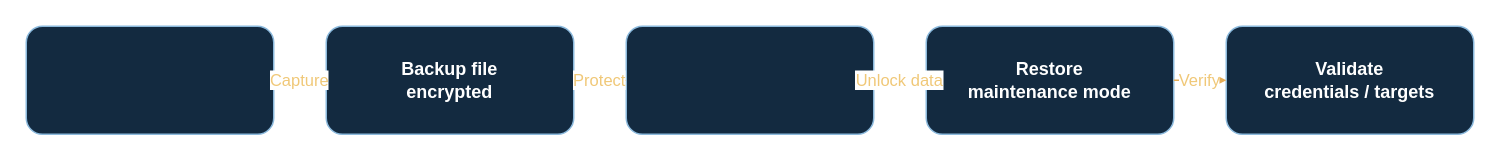
The diagram is 1500 pixels wide and 161 high, and some of its shapes have lost their labels. Each missing label, with the centre of its shape:
FortiPAM config users + secrets: point 149,79
Private key precondition: point 749,79
